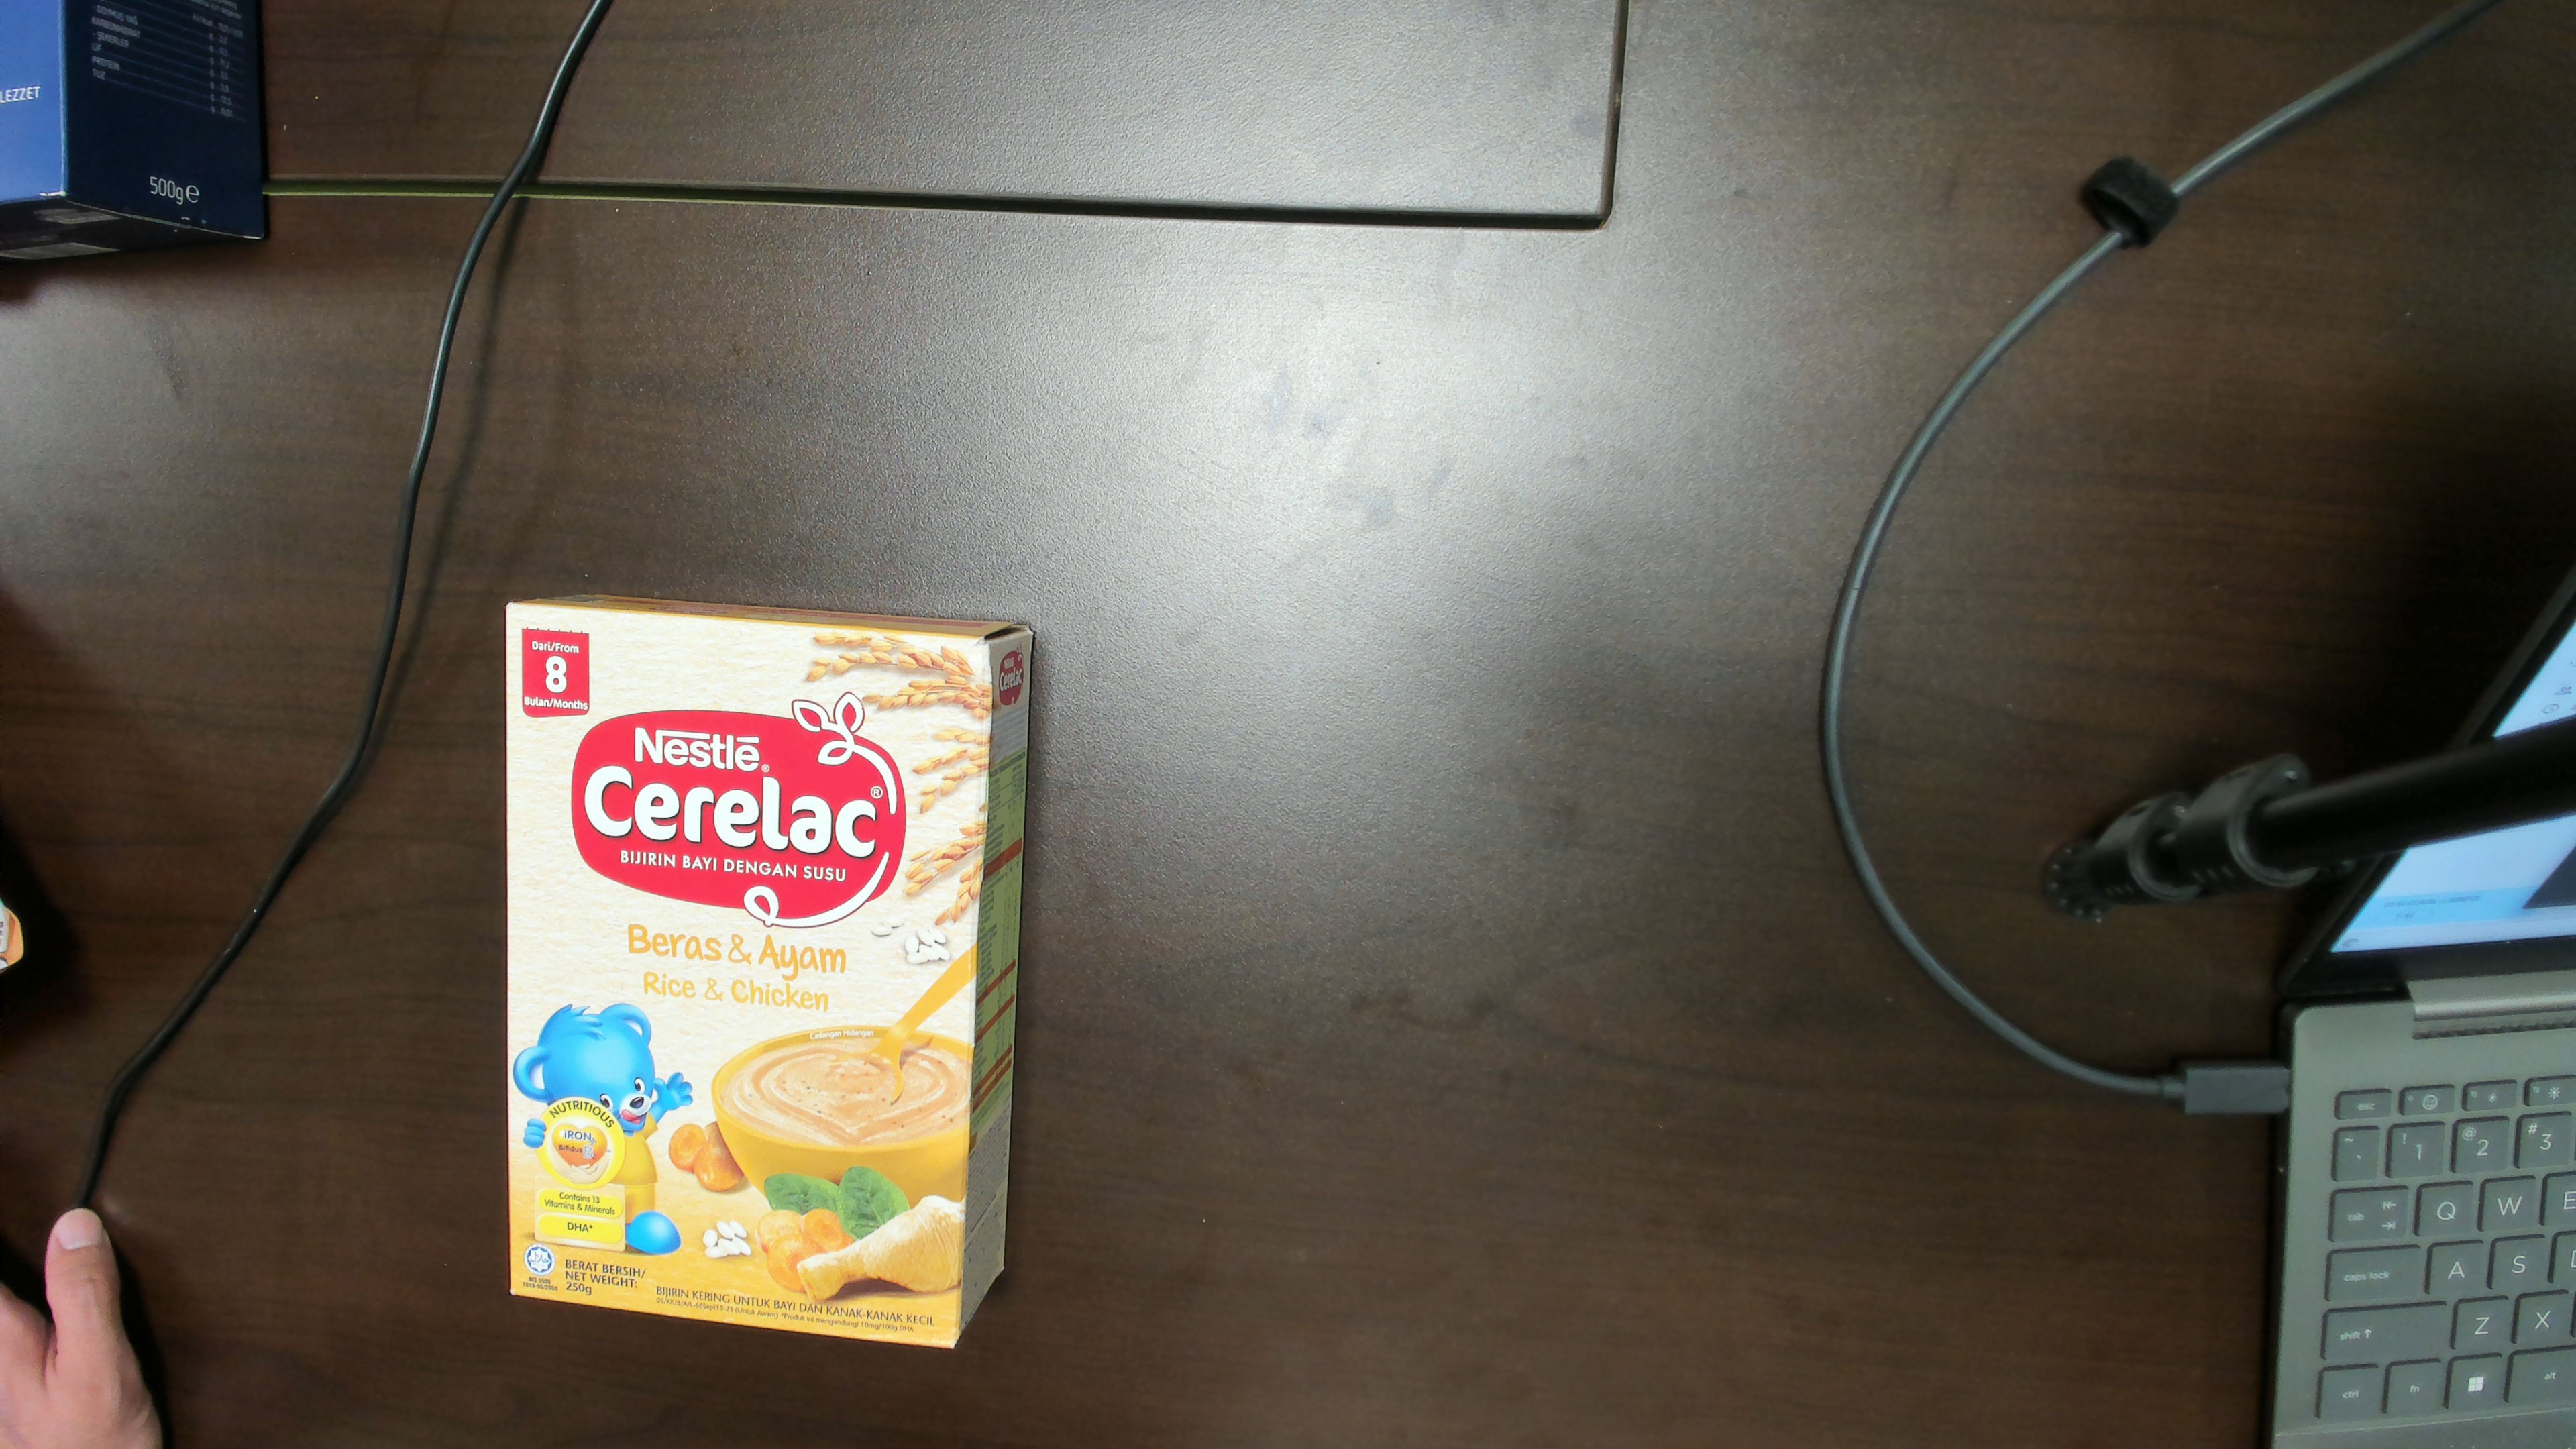Babyfood_200-299g_Halal_NonHealthy: (518, 640, 961, 1295)
